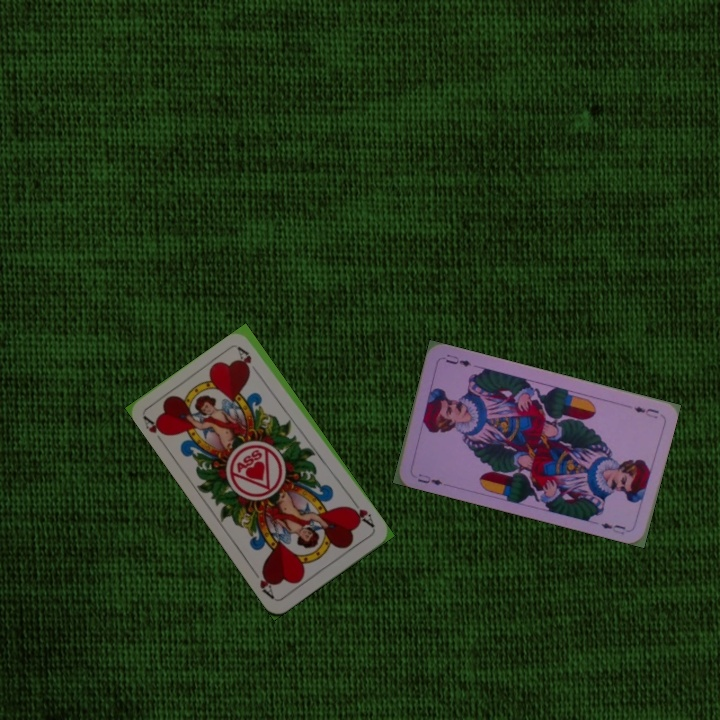EU: (630, 402, 661, 421), (414, 470, 445, 488)
HA: (345, 496, 378, 531), (139, 412, 171, 439)
